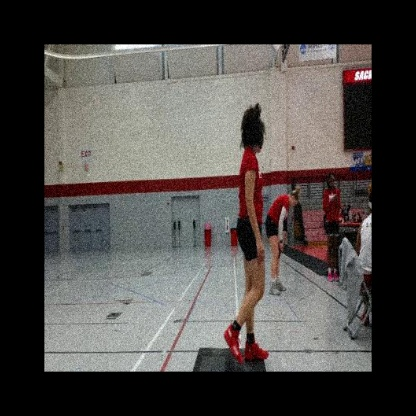lateral_flexion_left: (222, 103, 275, 371)
stance_width_broad: (226, 150, 271, 371)
